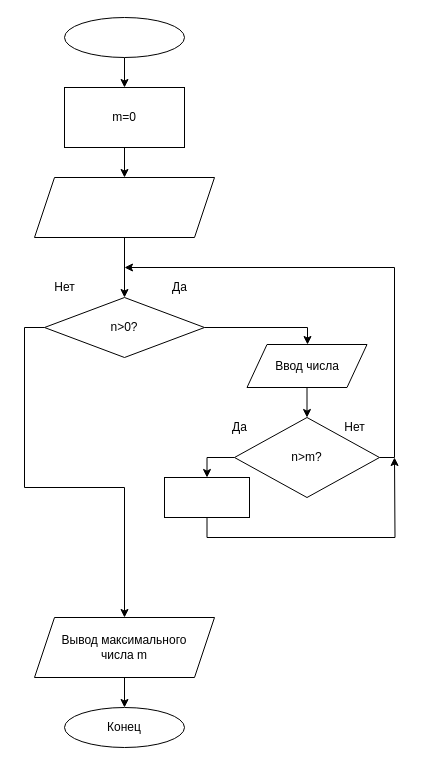
This 421x765 diagram has some shape labels left out. The shapes that lost their labels are listed below. From the top down, each one's centre as x and y in pixels, then its label:
point 124,37: Начало
point 124,207: Вывод приглашения
point 207,497: m=n
